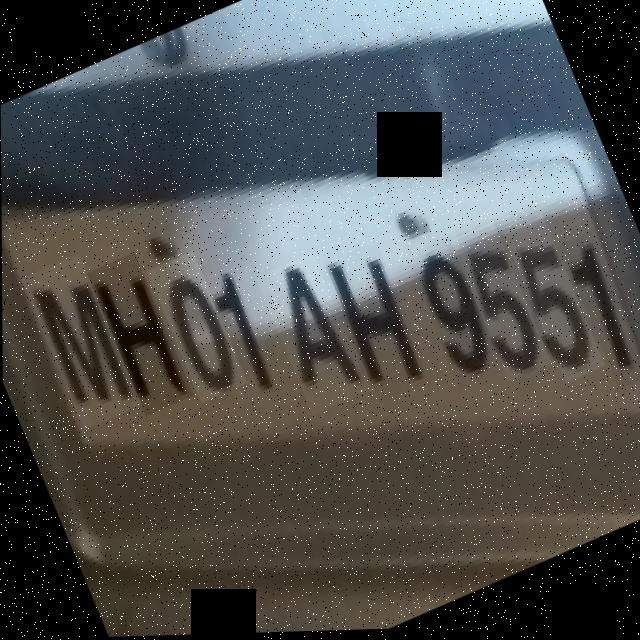0: (146, 250, 247, 405)
1: (191, 250, 286, 411), (558, 233, 640, 394)
5: (501, 215, 604, 387), (450, 223, 551, 385)
9: (400, 228, 504, 394)
A: (255, 253, 369, 418)
H: (321, 240, 435, 406), (85, 251, 193, 418)
M: (20, 252, 142, 432)
